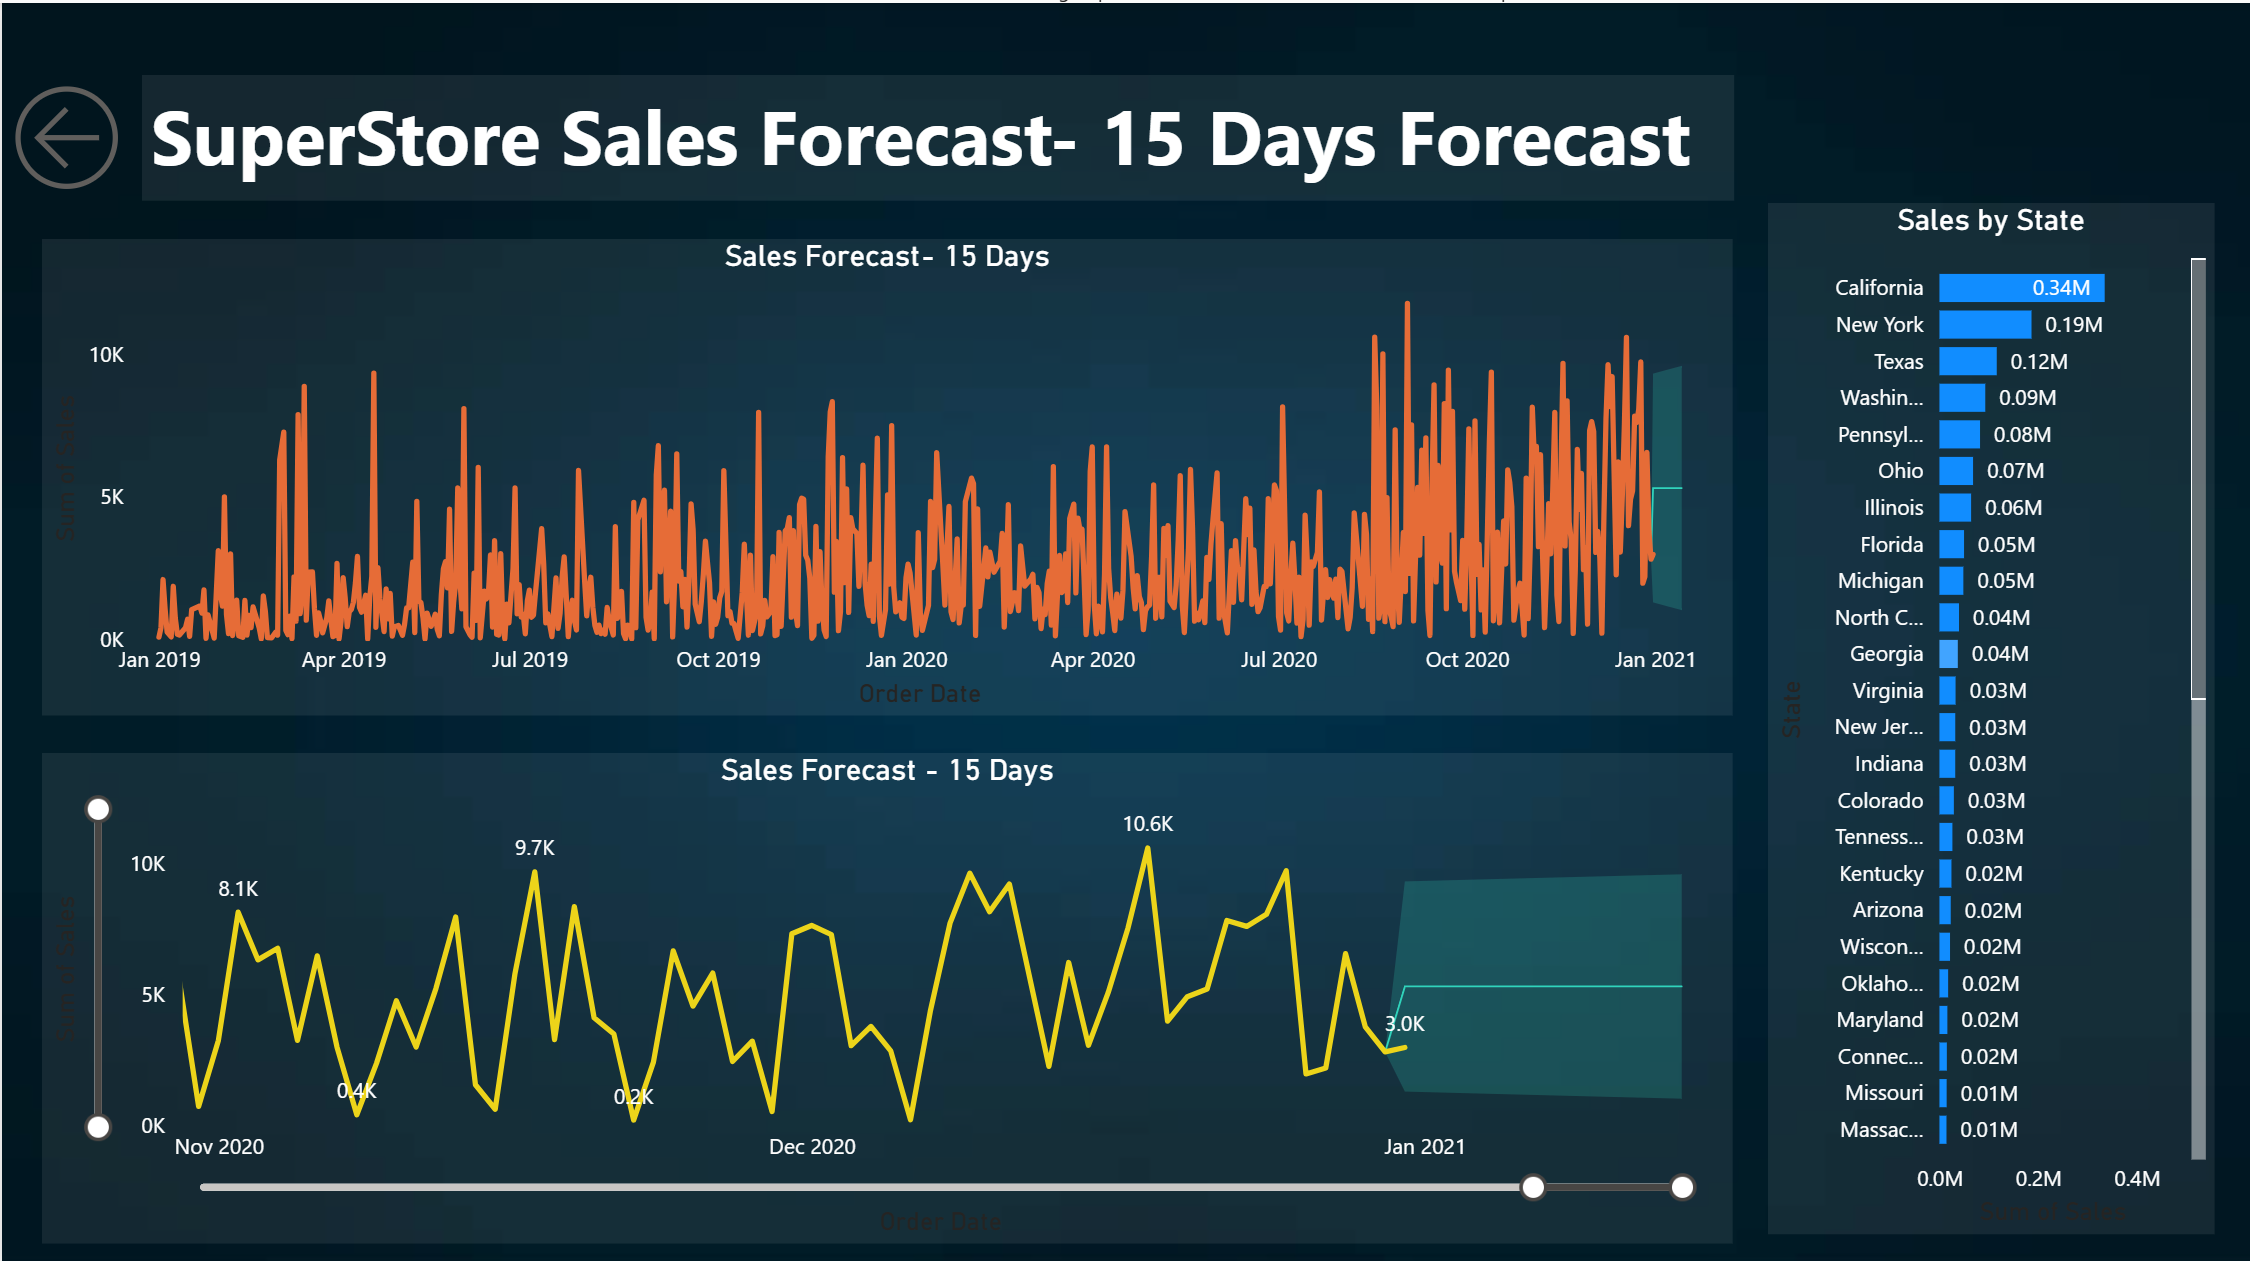

What the dashboard file says about the page in this screenshot:
{"tool":"powerbi","page":{"name":"Page 2","canvas":[1280,720],"ordinal":1},"visuals":[{"type":"lineChart","title":"Sales Forecast- 15 Days","fields":{"Y":["Sum(SuperStore_Sales_Dataset.Sales)"],"Category":["SuperStore_Sales_Dataset.Order Date"]},"box":[23.1,134.6,961.5,271.2],"z":0},{"type":"lineChart","title":"Sales Forecast - 15 Days","fields":{"Y":["Sum(SuperStore_Sales_Dataset.Sales)"],"Category":["SuperStore_Sales_Dataset.Order Date"]},"box":[23.1,426.9,961.5,278.8],"z":1000},{"type":"barChart","title":" Sales by State","fields":{"Y":["Sum(SuperStore_Sales_Dataset.Sales)"],"Category":["SuperStore_Sales_Dataset.State"]},"box":[1003.8,113.5,253.8,586.5],"z":2000},{"type":"textbox","box":[79.2,41.5,905.7,71.7],"z":3000},{"type":"actionButton","box":[0,39.6,79.2,73.6],"z":4000}]}

Visuals, with their boxes in screenshot pixels (x1, y1, x2, y2), scaled from the page's 1280x720 canvas onto the 2250x1261 screenshot:
"Sales Forecast- 15 Days" lineChart: x1=41, y1=236, x2=1731, y2=711
"Sales Forecast - 15 Days" lineChart: x1=41, y1=748, x2=1731, y2=1236
" Sales by State" barChart: x1=1764, y1=199, x2=2211, y2=1226
textbox: x1=139, y1=73, x2=1731, y2=198
actionButton: x1=0, y1=69, x2=139, y2=198
